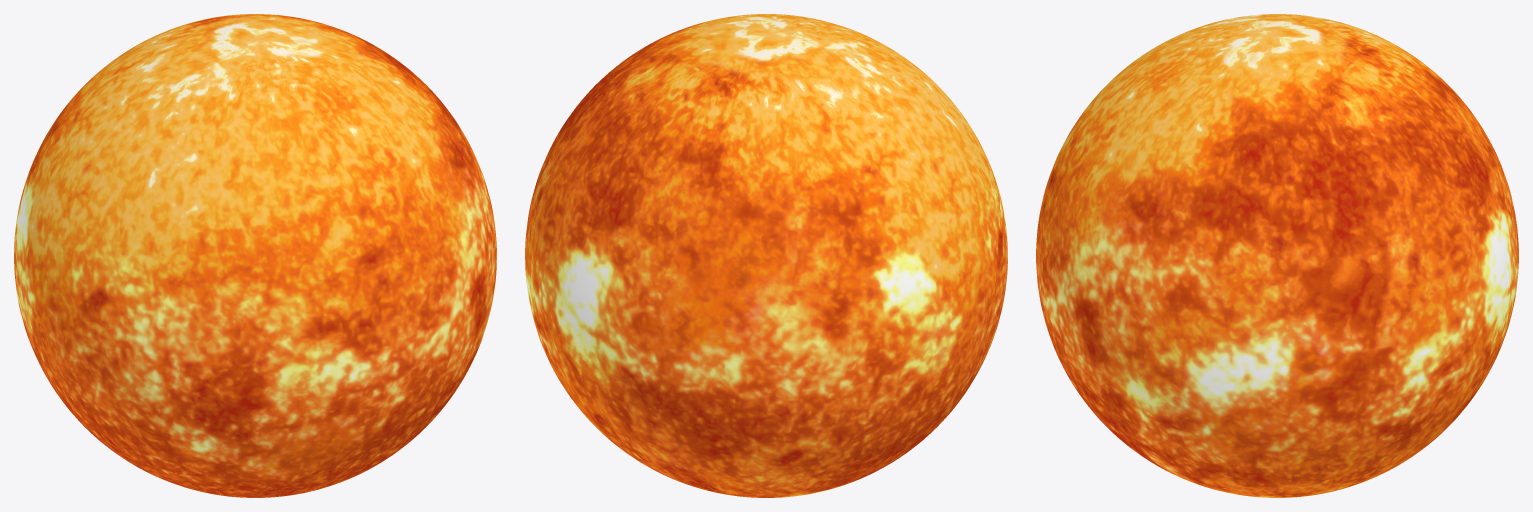
File: sun.glb
3 renders of one model, left to right at view 1: azimuth 30°, elevation 25°; view 2: azimuth 150°, elevation 25°; view 3: azimuth 270°, elevation 25°, orthographic.
Visible parts, largest first — view 1: Sun_Sphere.003; view 2: Sun_Sphere.003; view 3: Sun_Sphere.003.
Part boxes in pixels (x1,y1,x2,y2): Sun_Sphere.003: (14, 14, 496, 497); Sun_Sphere.003: (525, 14, 1007, 497); Sun_Sphere.003: (1036, 14, 1518, 497).
Bounding box in the file's own units: 1.88 × 1.88 × 1.88.
1 material, 1 textured.
